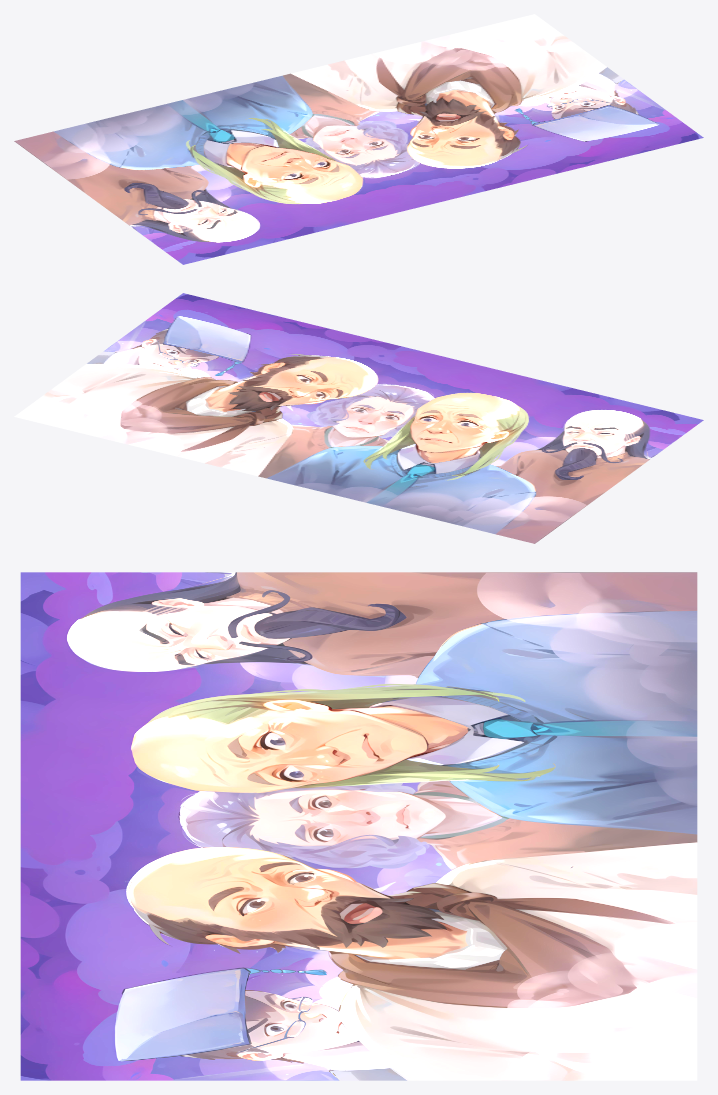
The model's file is cs_wakeup.glb.
3 views of the same model, one above another, from view 1: azimuth 30°, elevation 25°; view 2: azimuth 150°, elevation 25°; view 3: azimuth 270°, elevation 25° (orthographic). The views are drawn at different scales.
Visible parts, largest first — view 1: 01; view 2: 01; view 3: 01.
Part boxes in pixels (left/top/right/bottom): 01: left=14, top=14, right=703, bottom=264; 01: left=14, top=293, right=703, bottom=543; 01: left=20, top=572, right=697, bottom=1080.
Size of the model in its own units: 38.4 by 0 by 21.6.
Materials: 16 (16 with a texture image).
